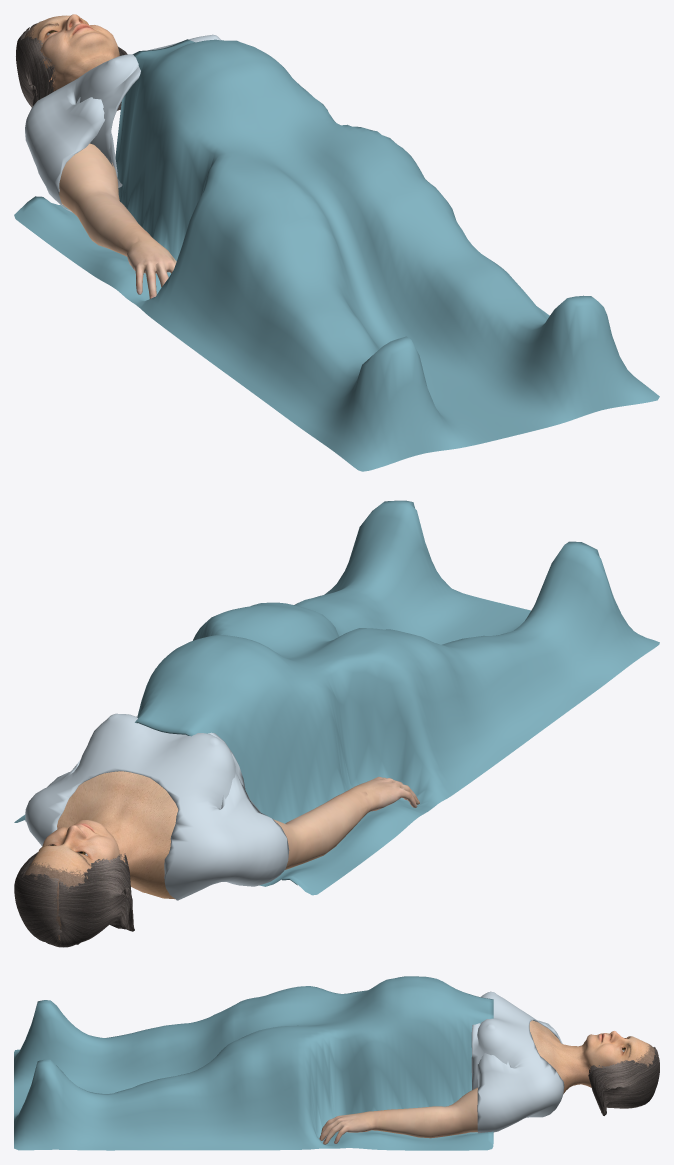
3 renders of one model, top to bottom at view 1: azimuth 30°, elevation 25°; view 2: azimuth 150°, elevation 25°; view 3: azimuth 270°, elevation 25°, orthographic. The views are drawn at different scales.
Parts seen in each view (by area): view 1: sheet, gown, arms, body, hair; view 2: sheet, gown, body, hair, arms; view 3: sheet, gown, arms, body, hair.
Boxes of the visible parts, left/top/right/bottom form: sheet: left=14, top=39, right=659, bottom=471; gown: left=25, top=34, right=221, bottom=212; arms: left=59, top=143, right=176, bottom=298; body: left=24, top=14, right=119, bottom=91; hair: left=16, top=21, right=127, bottom=110; sheet: left=14, top=500, right=659, bottom=895; gown: left=25, top=713, right=289, bottom=900; body: left=24, top=771, right=178, bottom=940; hair: left=14, top=852, right=134, bottom=947; arms: left=273, top=776, right=419, bottom=869; sheet: left=14, top=976, right=493, bottom=1150; gown: left=471, top=991, right=564, bottom=1133; arms: left=319, top=1087, right=477, bottom=1144; body: left=529, top=1020, right=656, bottom=1093; hair: left=588, top=1047, right=659, bottom=1115.
Size of the model in its own units: 0.6377 by 0.3482 by 1.72.
8 materials, 6 textured.
